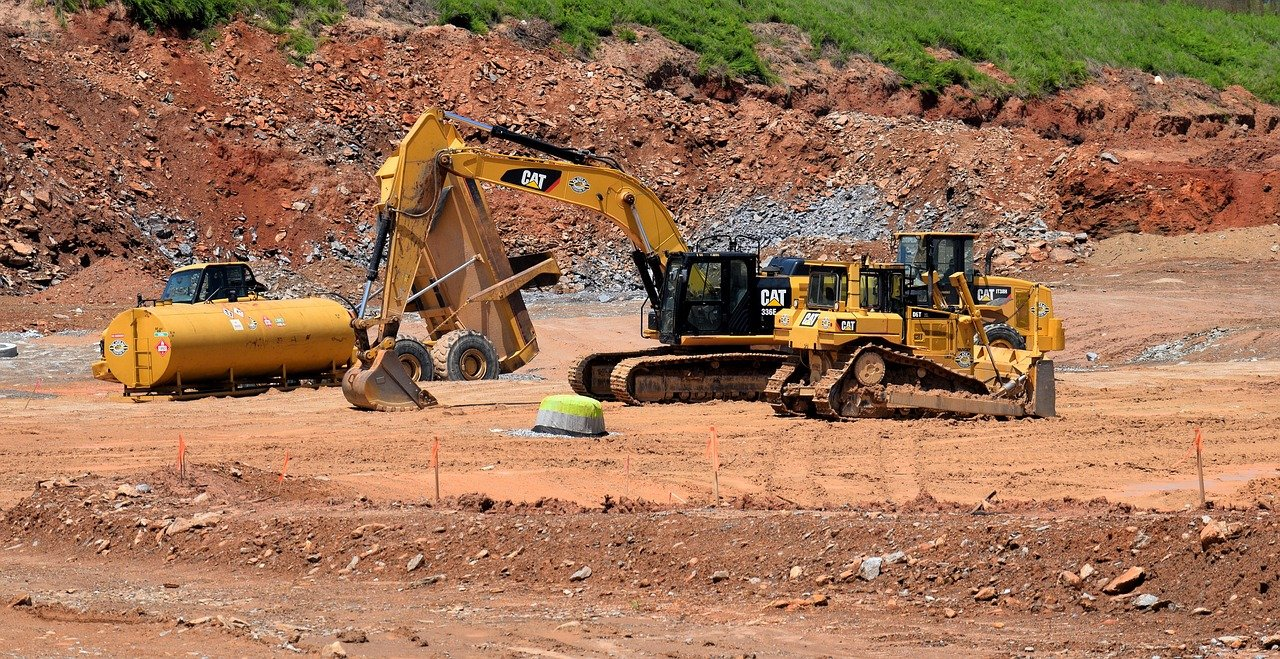bulldozer: (337, 102, 1077, 428)
